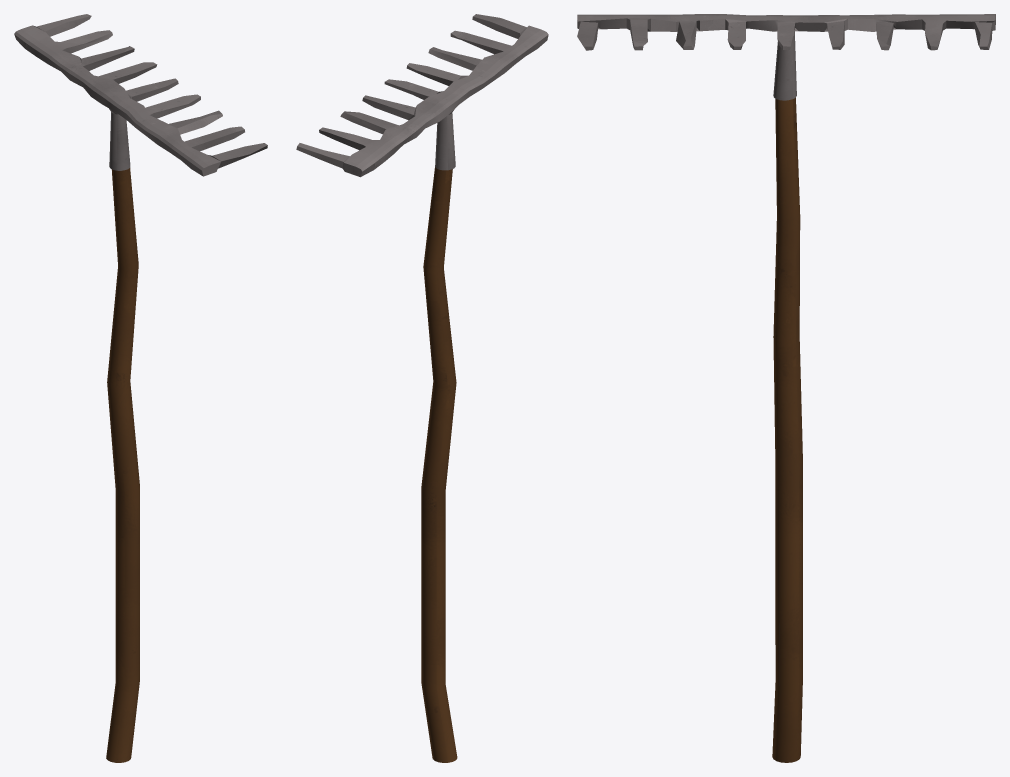
Rendered from rake.fbx.
3 views of the same model, side by side, from view 1: azimuth 30°, elevation 25°; view 2: azimuth 150°, elevation 25°; view 3: azimuth 270°, elevation 25° (orthographic). The views are drawn at different scales.
Visible parts, largest first — view 1: Cylinder.002; view 2: Cylinder.002; view 3: Cylinder.002.
Part boxes in pixels (left/top/right/bottom): Cylinder.002: left=14, top=14, right=267, bottom=762; Cylinder.002: left=296, top=14, right=548, bottom=762; Cylinder.002: left=577, top=14, right=995, bottom=762.
Bounding box in the file's own units: 0.3024 × 2.71 × 1.38.
